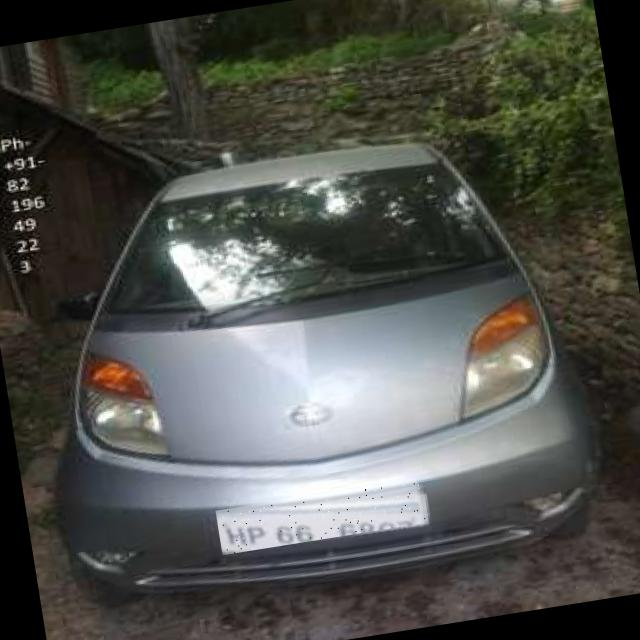Plate: (217, 479, 428, 556)
